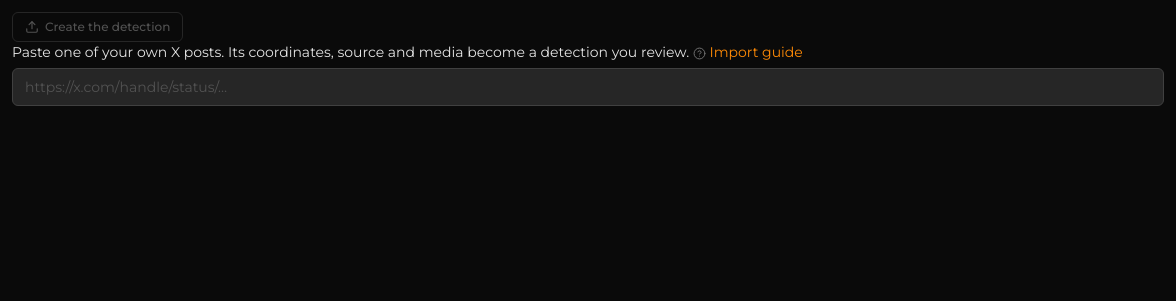
Scenario: ImportPostPanel › stays put and names the warnings, with the review one click away
Type "https://x.com/ana/status/1" into the field with placeholder "https://x.com/handle/status/…".
click(588, 87); type("https://x.com/ana/status/1")  # box [12, 68, 1164, 106]
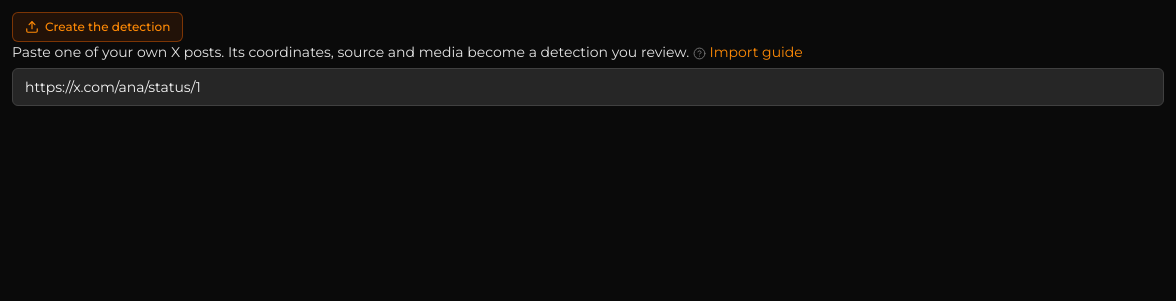
Click the button "Create the detection".
click(98, 27)  # box [12, 12, 183, 42]
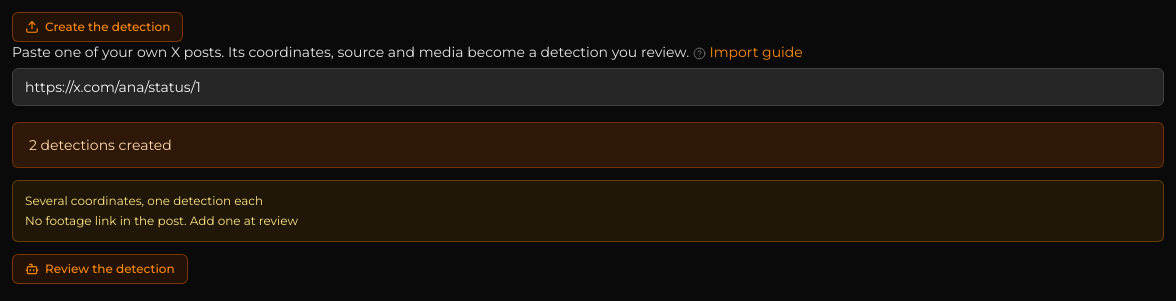
Now the text "2 detections created" is shown, box [12, 122, 1164, 168]
Now the list item "Several coordinates, one detection each" is shown, box [25, 193, 263, 208]
Now the list item "No footage link in the post. Add one at review" is shown, box [25, 213, 298, 228]
